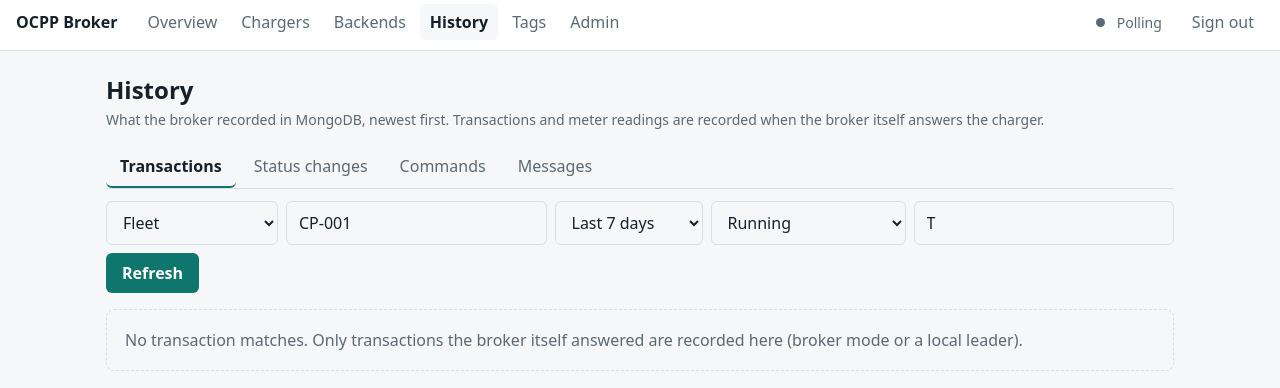
Test: the history page › drops the filters of one tab when moving to another and keeps the shared ones
Expected: the text "No transaction matches" is shown, [125,329,1023,351]
Click the button "Commands" at (443, 167), box [386,146,500,188]
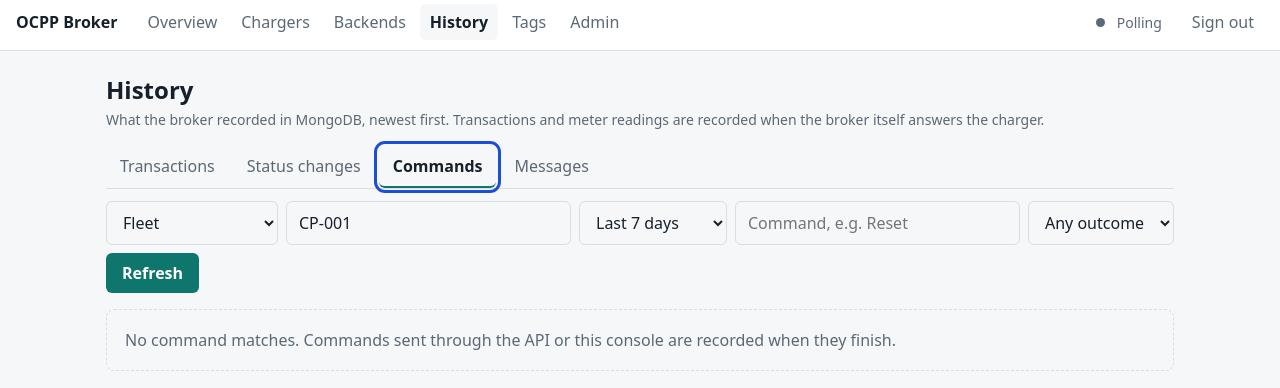
Expected: the text "No command matches" is shown, [125,329,896,351]
